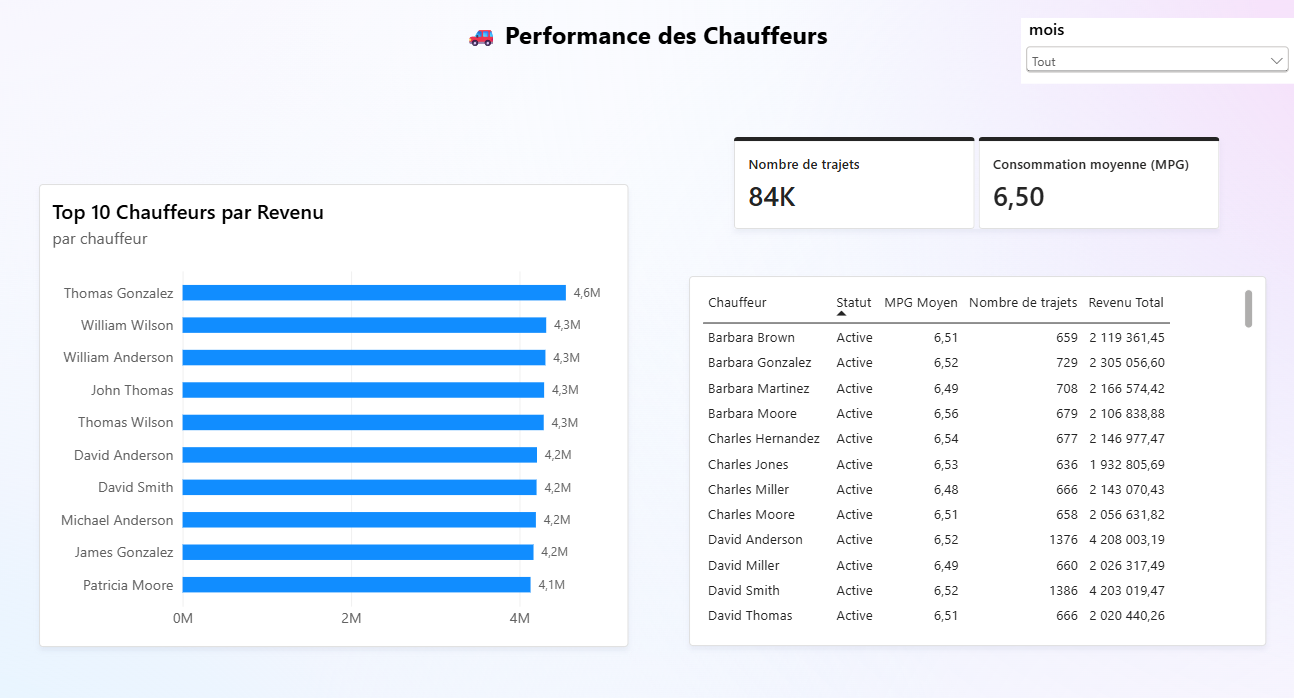

What the dashboard file says about the page in this screenshot:
{"tool":"powerbi","page":{"name":"Performance Chauffeurs","canvas":[1280,720],"ordinal":2},"visuals":[{"type":"clusteredBarChart","fields":{"Y":["Sum(chauffeurs.revenu_total)"],"Category":["chauffeurs.chauffeur"]},"box":[38.8,163.8,582.5,457.5],"z":0},{"type":"tableEx","fields":{"Values":["chauffeurs.chauffeur","chauffeurs.employment_status","chauffeurs.mpg_moyen","chauffeurs.nb_trajets","chauffeurs.revenu_total"]},"box":[681.2,255,571.2,366.2],"z":2000},{"type":"cardVisual","fields":{"Data":["Sum(chauffeurs.nb_trajets)","Avg(chauffeurs.mpg_moyen)"]},"box":[726.2,117.5,481.2,91.2],"z":2001},{"type":"textbox","box":[385,0,508.8,45],"z":2002},{"type":"slicer","fields":{"Values":["revenus_mois.mois"]},"box":[1010,0,270,65],"z":2003}]}

Visuals, with their boxes on the page's 1280x720 design canvas (x1, y1, x2, y2). These are canvas units, not pixel positions in the 1294x698 screenshot, which may show the page scaled, cropped or inside an application window:
clusteredBarChart - Sum(chauffeurs.revenu_total) x chauffeurs.chauffeur: <region>39, 164, 621, 621</region>
tableEx - chauffeurs.chauffeur x chauffeurs.employment_status: <region>681, 255, 1252, 621</region>
cardVisual - Sum(chauffeurs.nb_trajets) x Avg(chauffeurs.mpg_moyen): <region>726, 118, 1207, 209</region>
textbox: <region>385, 0, 894, 45</region>
slicer - revenus_mois.mois: <region>1010, 0, 1280, 65</region>
